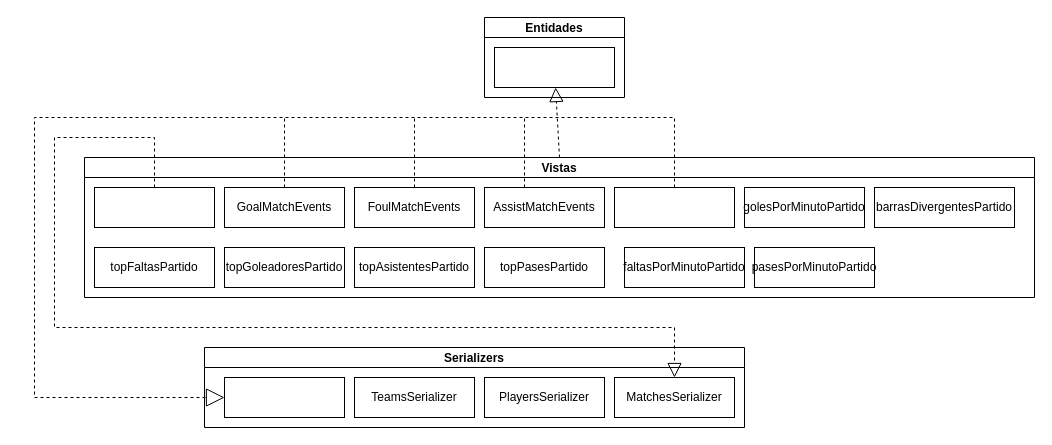
Some shapes in this 1052 by 445 pixel diagram are drawn without their labels. The box of each missing label's shape, as (x1, y1, x2, y2) in pixels:
Events: (494, 46, 614, 88)
EventsSerializer: (224, 376, 344, 418)
FreeKickMatchEvents: (614, 186, 734, 228)
MatchList: (94, 186, 214, 228)
